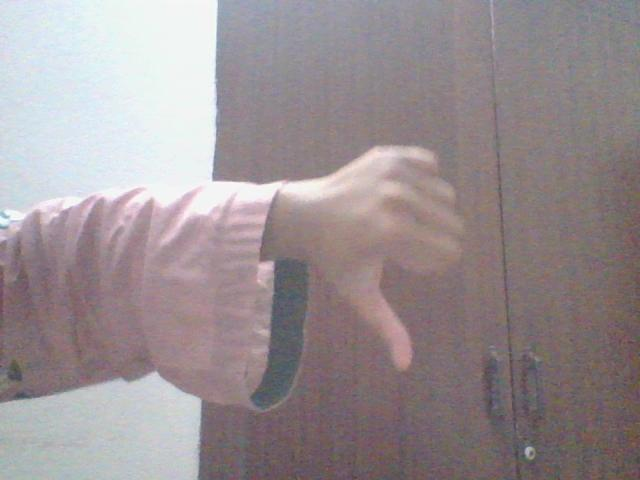thumbs-down: (342, 141, 484, 371)
